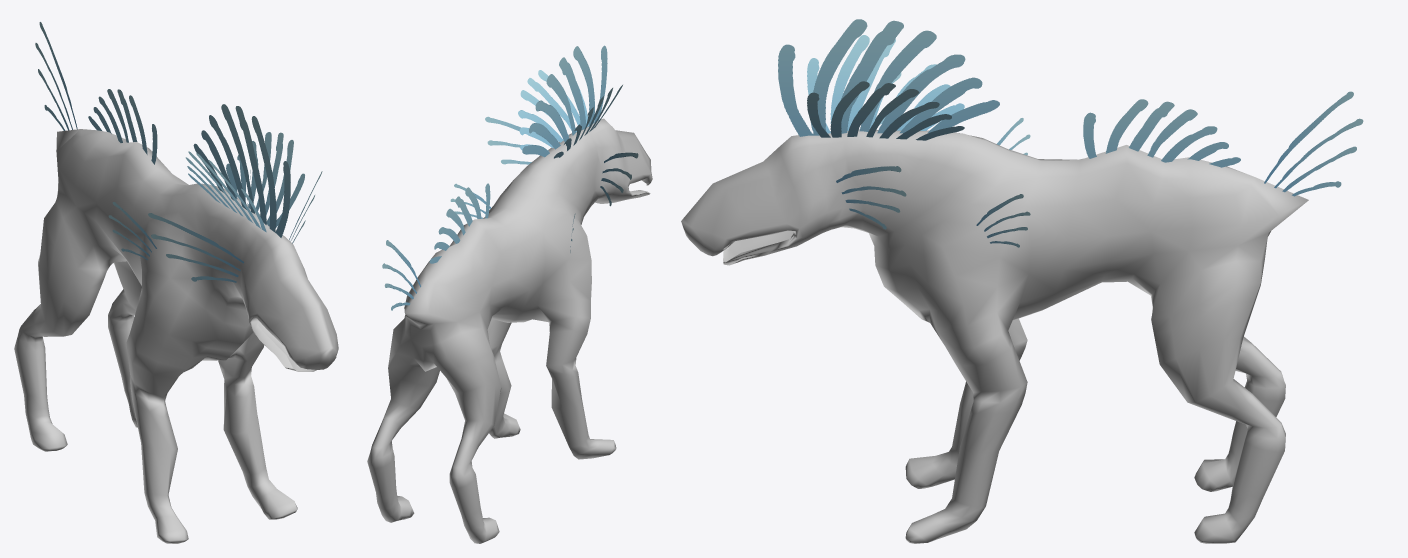
The model's file is hyenadogthing with hair.fbx.
The picture shows the model from 3 angles, left to right: view 1: azimuth 30°, elevation 25°; view 2: azimuth 150°, elevation 25°; view 3: azimuth 270°, elevation 25°; orthographic projection. The views are drawn at different scales.
Parts seen in each view (by area): view 1: polySurface6, pPlane14; view 2: polySurface6, pPlane14; view 3: polySurface6, pPlane14.
Part boxes in pixels (left/top/right/bottom): polySurface6: left=14, top=129, right=338, bottom=543; pPlane14: left=35, top=22, right=322, bottom=282; polySurface6: left=367, top=118, right=652, bottom=543; pPlane14: left=382, top=45, right=638, bottom=310; polySurface6: left=681, top=129, right=1308, bottom=543; pPlane14: left=778, top=19, right=1363, bottom=247.
Bounding box in the file's own units: 6.74 × 14.55 × 18.76.
